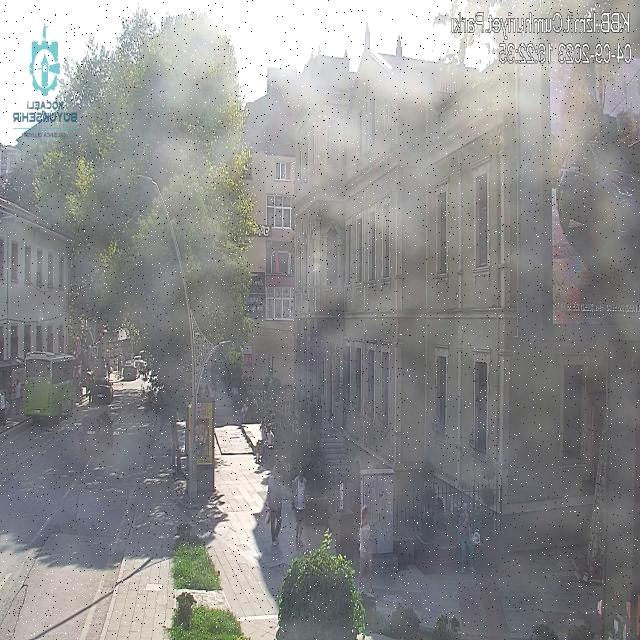Bus: (17, 348, 89, 429)
Car: (88, 374, 116, 404)
